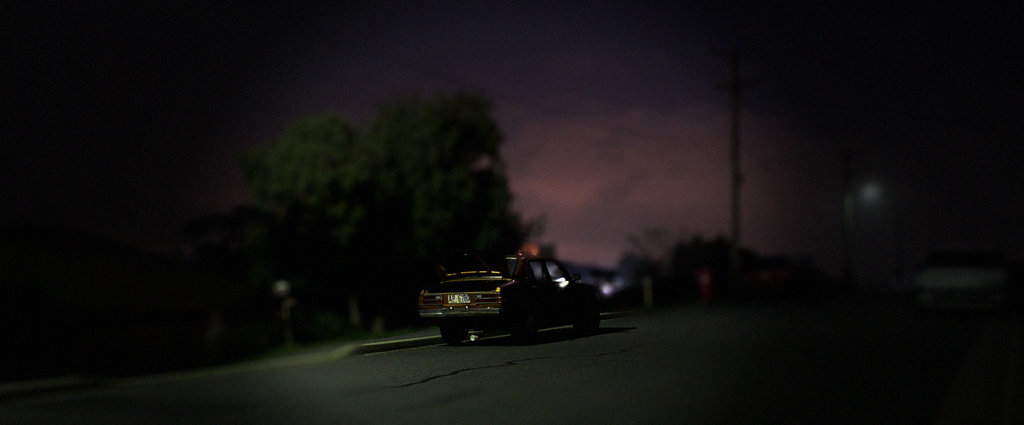car: (411, 244, 613, 353)
